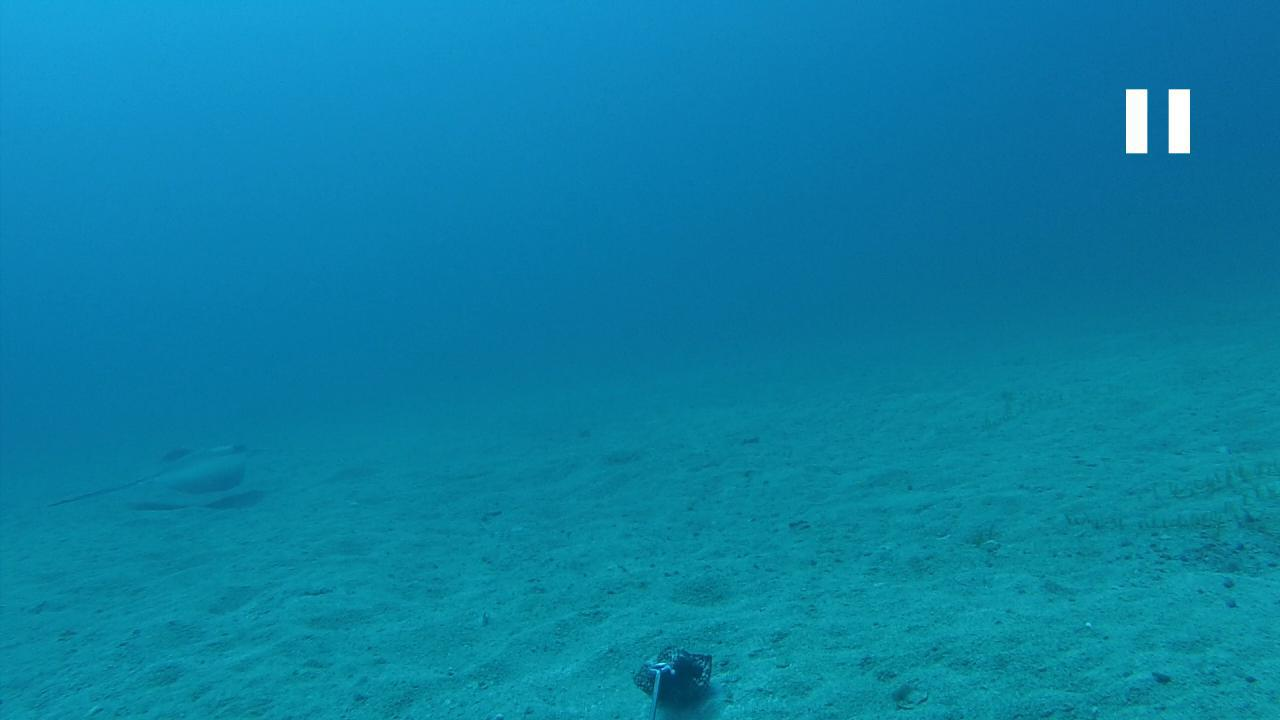dasyatis: (42, 436, 250, 510)
